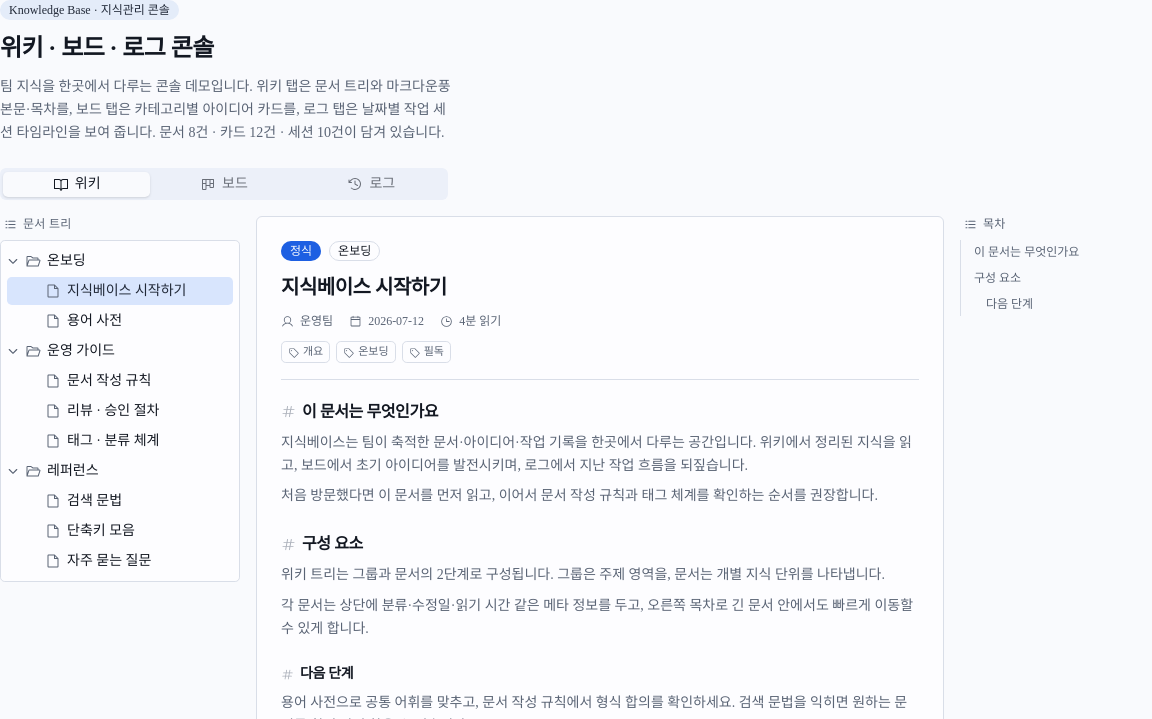
Test case: KnowledgeBaseConsolePage › switches to the board tab and renders category columns with cards
Press the mouse on the tab "보드" at (224,184), box [150,172,298,197]
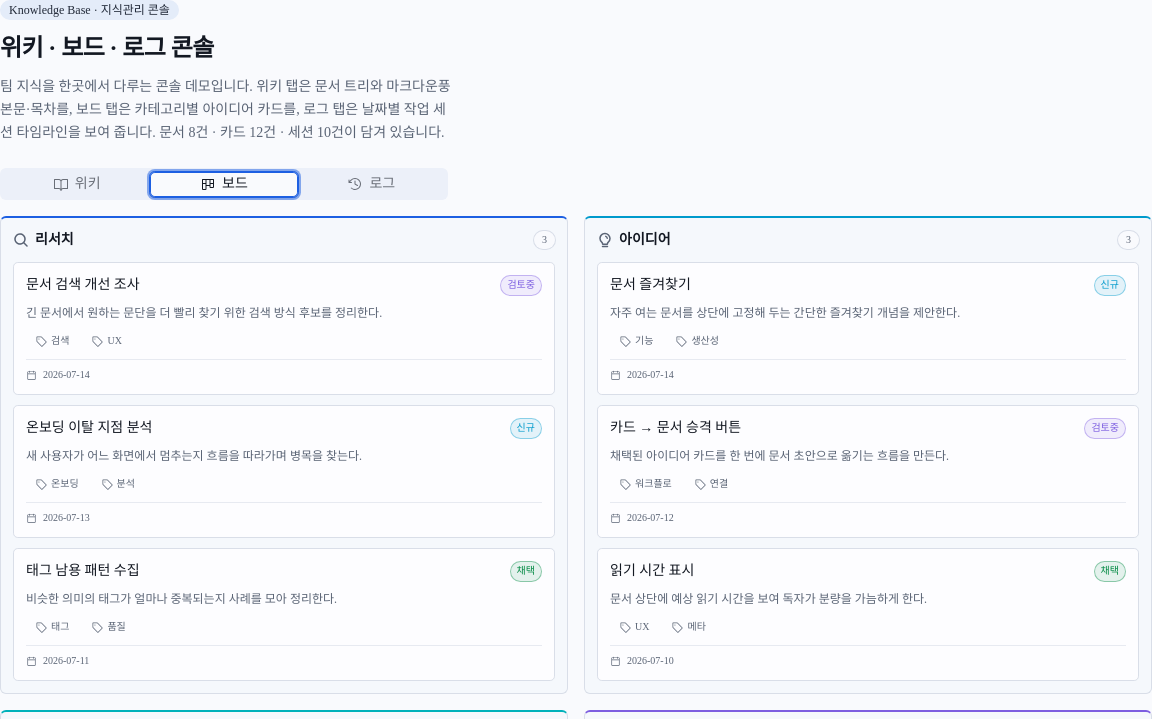
Expected: the heading "문서 검색 개선 조사" is shown, [26,275,140,295]
Expected: the text "아이디어" is shown, [619,232,670,247]
